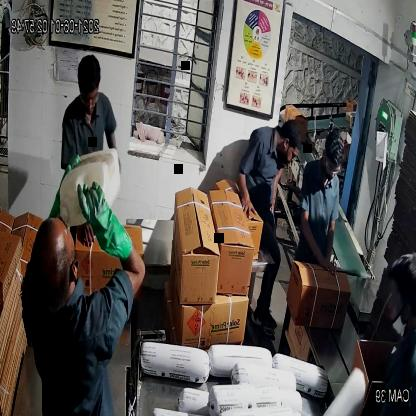goggles: (320, 154, 347, 180)
